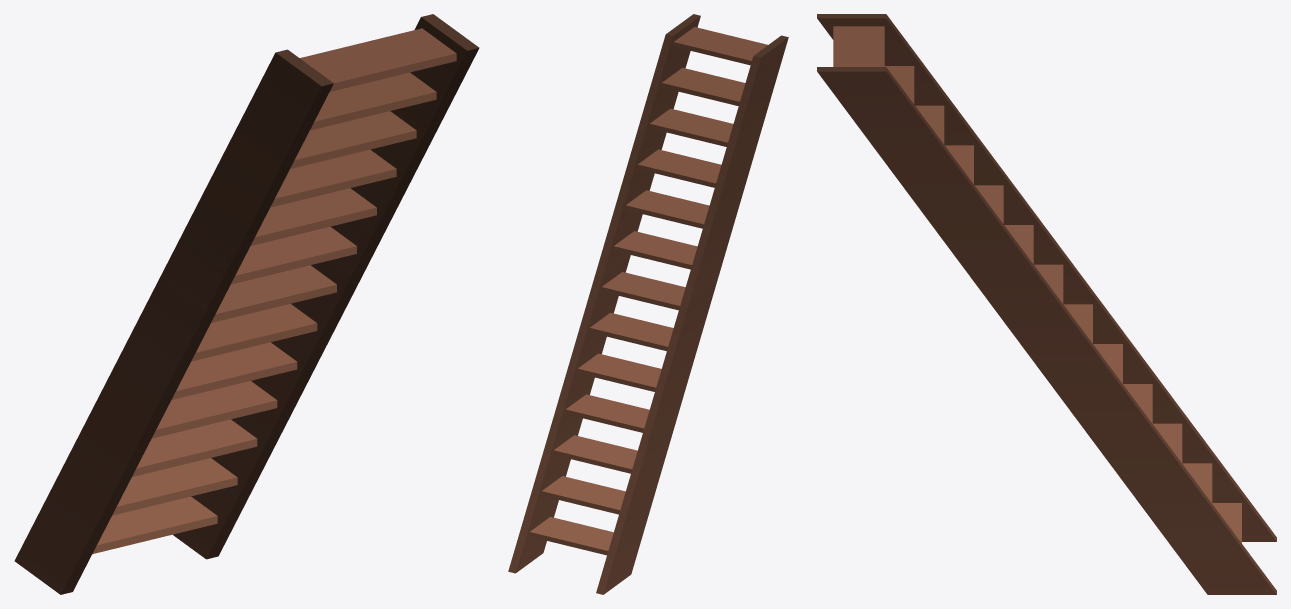
File: FireEscape_E_2.glb
3 renders of one model, left to right at view 1: azimuth 30°, elevation 25°; view 2: azimuth 150°, elevation 25°; view 3: azimuth 270°, elevation 25°, orthographic. The views are drawn at different scales.
Parts seen in each view (by area): view 1: FireEscape_E_2; view 2: FireEscape_E_2; view 3: FireEscape_E_2.
Boxes of the visible parts, x1,y1,x2,y2 form: FireEscape_E_2: (14,14,479,594); FireEscape_E_2: (508,14,788,594); FireEscape_E_2: (817,14,1276,594).
Size of the model in its own units: 0.7675 by 3.25 by 2.59.
1 material, 1 textured.
